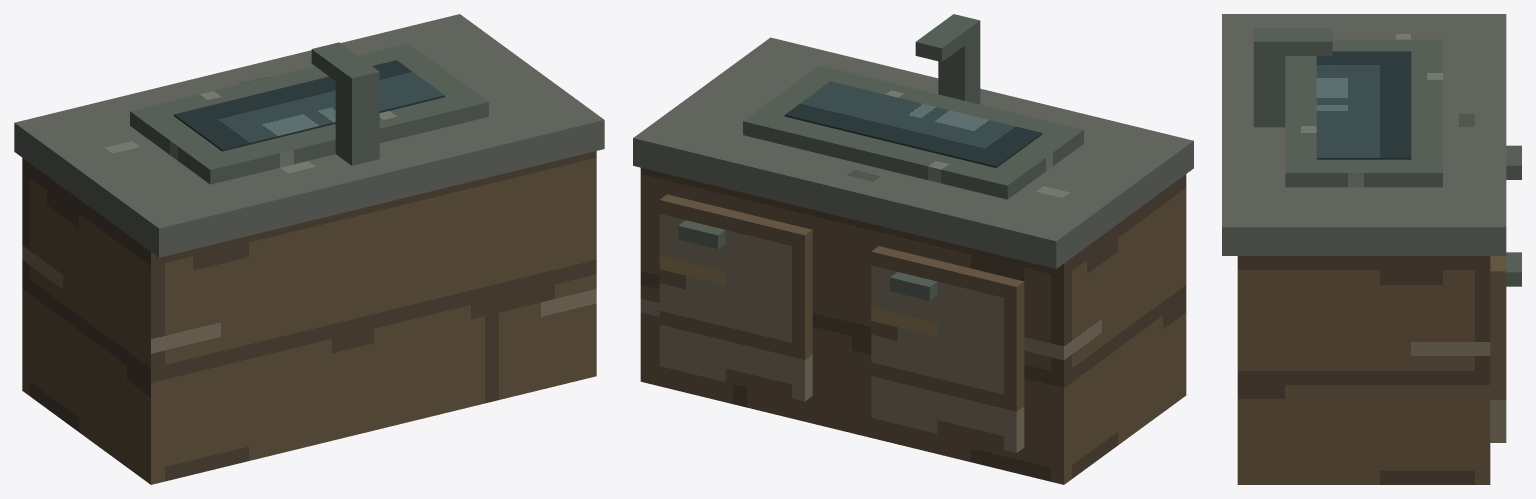
Rendered from sink_counter.gltf.
The picture shows the model from 3 angles, left to right: view 1: azimuth 30°, elevation 25°; view 2: azimuth 150°, elevation 25°; view 3: azimuth 270°, elevation 25°; orthographic projection. The views are drawn at different scales.
Parts seen in each view (by area): view 1: cabinet, worktop, basin, basin_inside, tap, tap_spout; view 2: cabinet, door_panel (×2), worktop, basin, basin_inside, tap, pull (×2), tap_spout; view 3: cabinet, worktop, basin, basin_inside, door_panel, tap, tap_spout, pull (×2).
Boxes of the visible parts, box(x1,y1,x2,y2) form: cabinet: box(22, 151, 596, 484); worktop: box(14, 14, 604, 257); basin: box(130, 43, 488, 184); basin_inside: box(174, 60, 444, 151); tap: box(335, 81, 379, 165); tap_spout: box(311, 42, 379, 92); cabinet: box(640, 168, 1186, 484); door_panel (×2): box(659, 194, 1024, 452); worktop: box(633, 37, 1193, 268); basin: box(743, 65, 1083, 199); basin_inside: box(784, 81, 1042, 167); tap: box(938, 34, 980, 104); pull (×2): box(678, 220, 937, 300); tap_spout: box(915, 14, 980, 61); cabinet: box(1237, 256, 1490, 484); worktop: box(1222, 14, 1506, 255); basin: box(1285, 39, 1442, 187); basin_inside: box(1316, 51, 1411, 159); door_panel: box(1490, 256, 1506, 442); tap: box(1253, 56, 1285, 127); tap_spout: box(1253, 28, 1332, 55); pull (×2): box(1506, 145, 1521, 286).
Size of the model in its own units: 2 by 1.5 by 1.19.
Materials: 5 (5 with a texture image).
